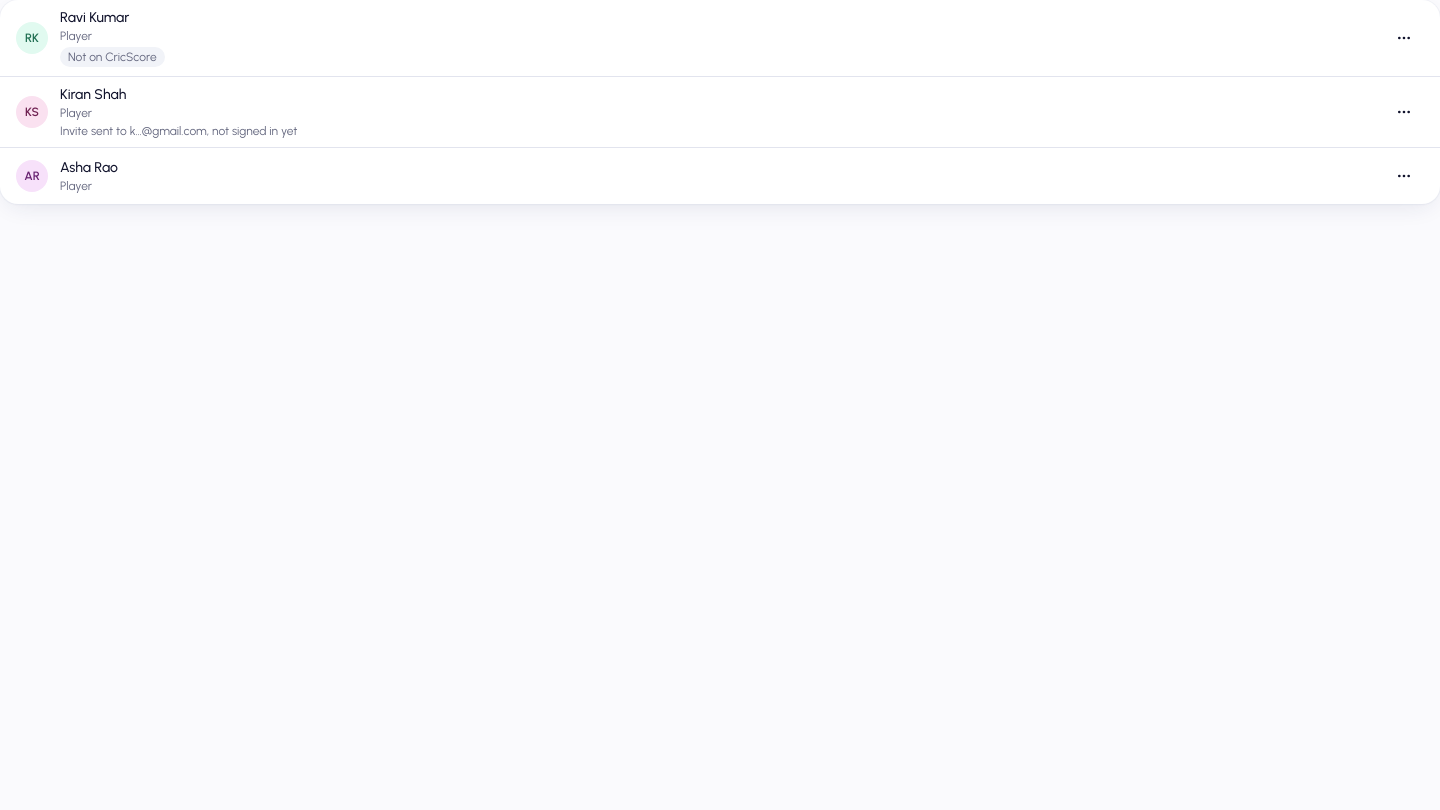
PlayerList claims › shows the refusal when the email belongs to someone else
Press the mouse on the button named "Player actions for Ravi Kumar" at (1404, 38), box [1384,18,1424,58]
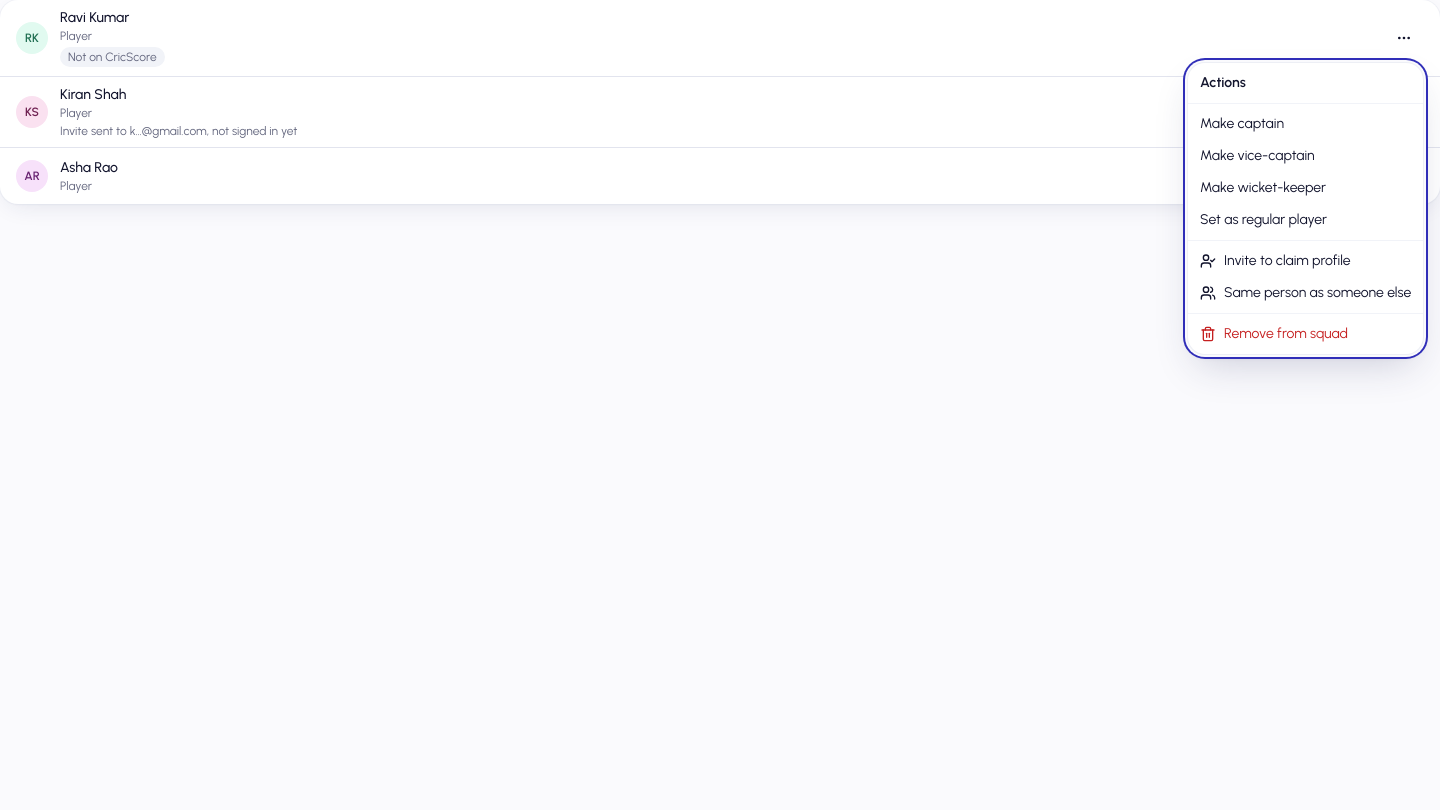
Click the menu item "Invite to claim profile" at (1275, 260), box [1200,252,1351,269]
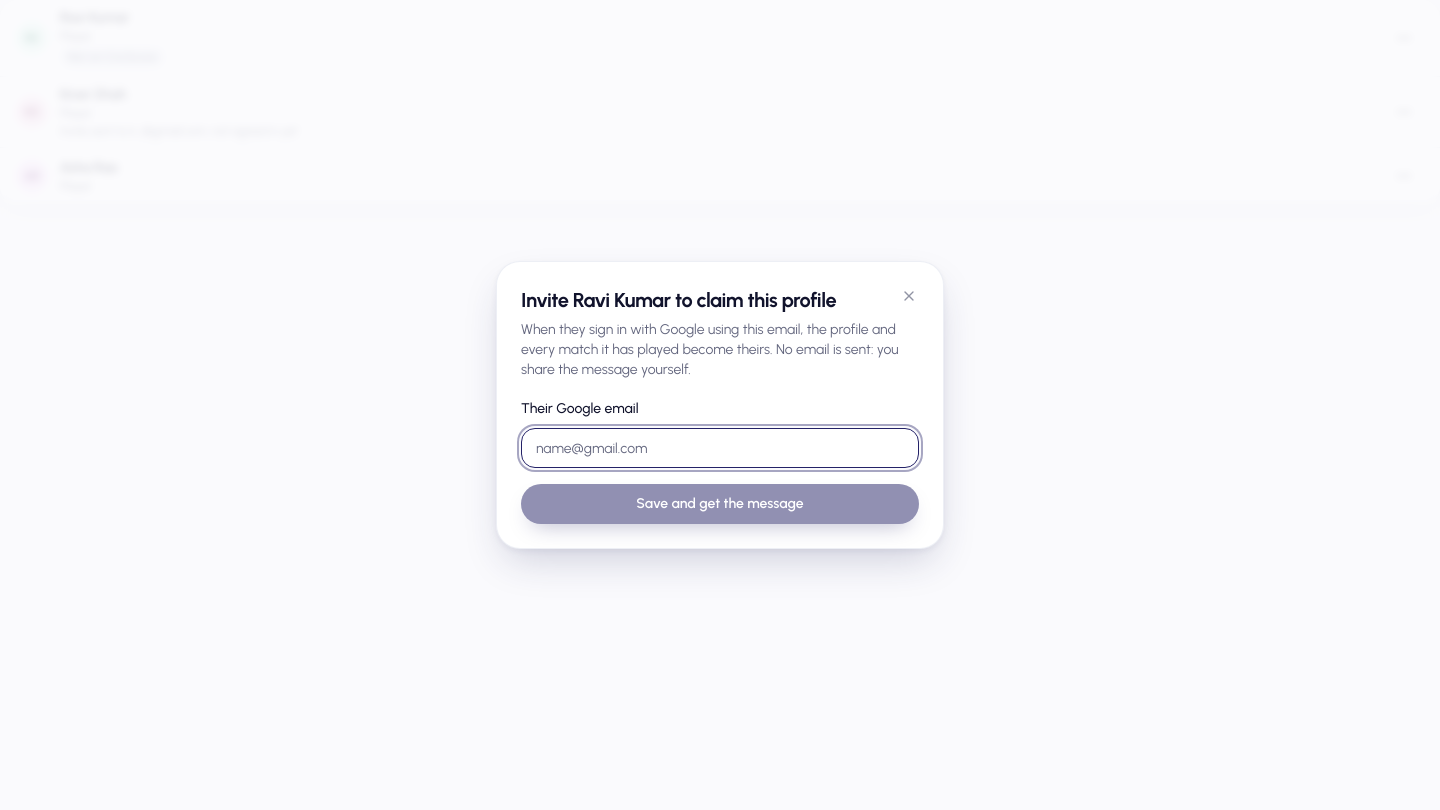
Type "asha@gmail.com" into the field labelled "Their Google email" at (720, 448), box [521,428,919,468]
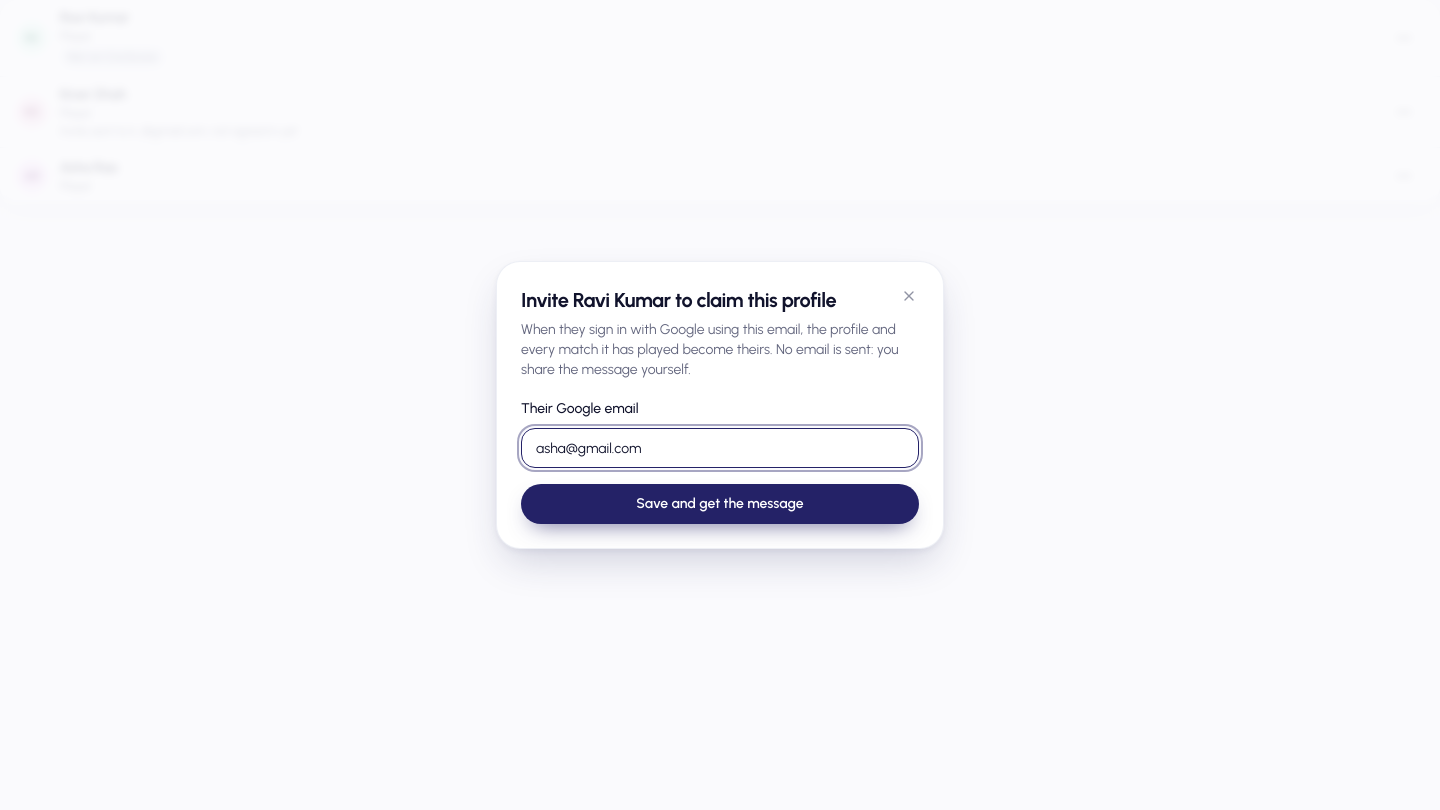
Click the button "Save and get the message" at (720, 504), box [521,484,919,524]
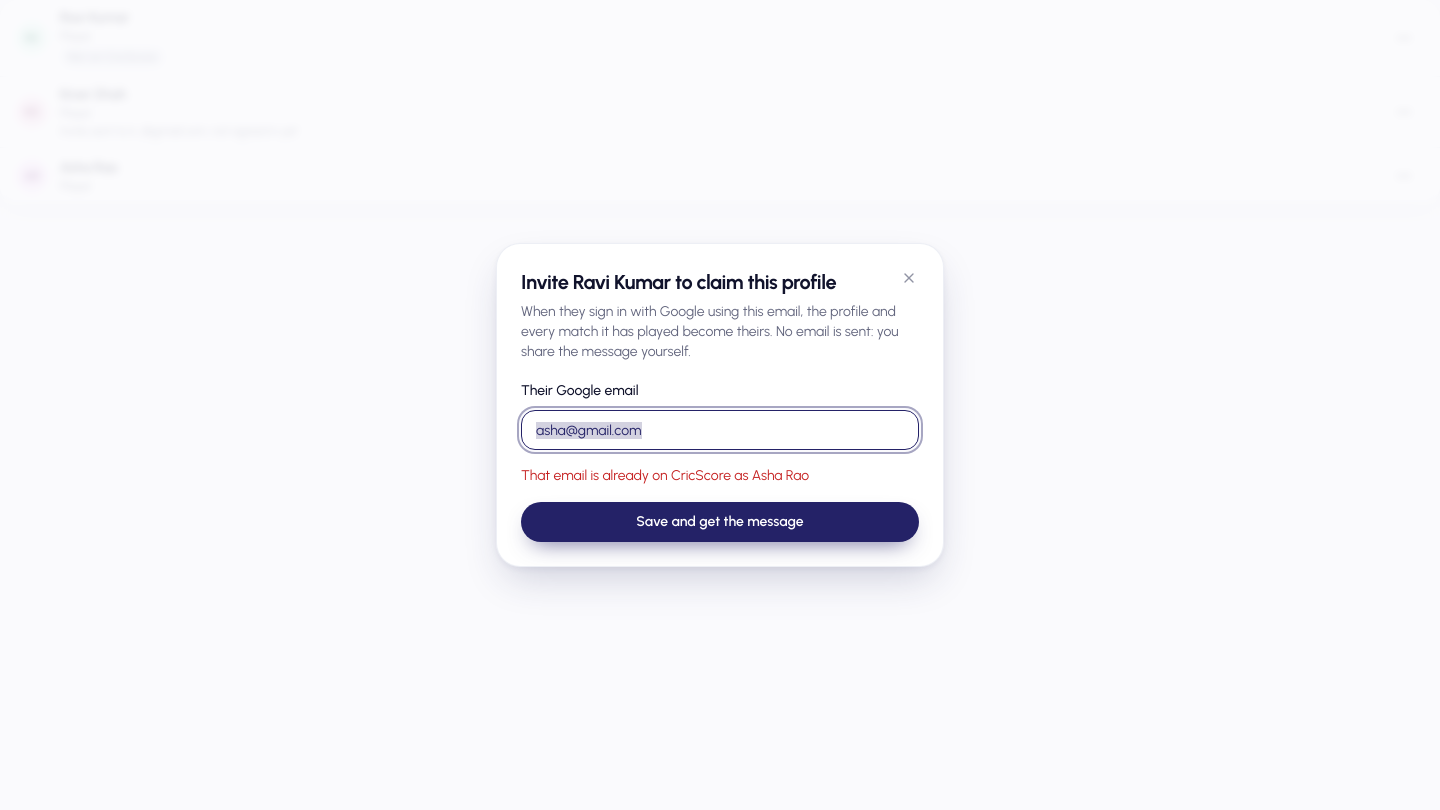
Check: the message reads "That email is already on CricScore as Asha Rao", box [521,467,809,484]
